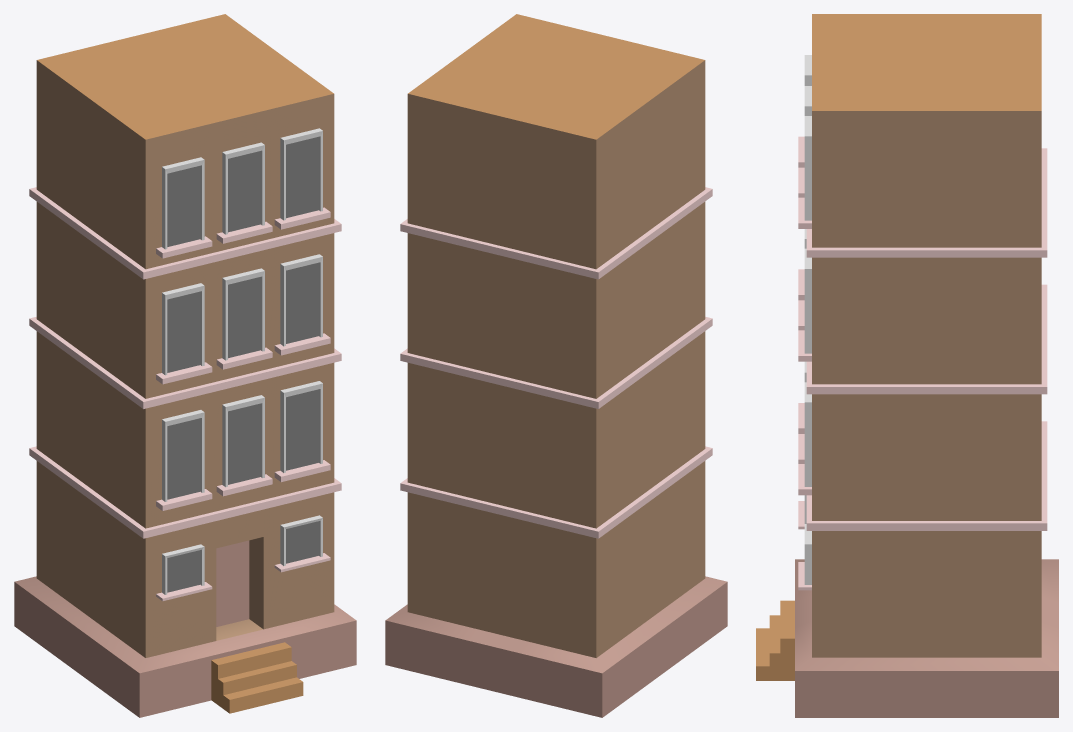
File: AdBuilding.fbx
3 renders of one model, left to right at view 1: azimuth 30°, elevation 25°; view 2: azimuth 150°, elevation 25°; view 3: azimuth 270°, elevation 25°, orthographic. The views are drawn at different scales.
Parts seen in each view (by area): view 1: pCube15; view 2: pCube15; view 3: pCube15.
Boxes of the visible parts, x1,y1,x2,y2 form: pCube15: [14, 14, 356, 717]; pCube15: [385, 14, 727, 717]; pCube15: [756, 14, 1058, 717].
Size of the model in its own units: 627 by 1570 by 719.
